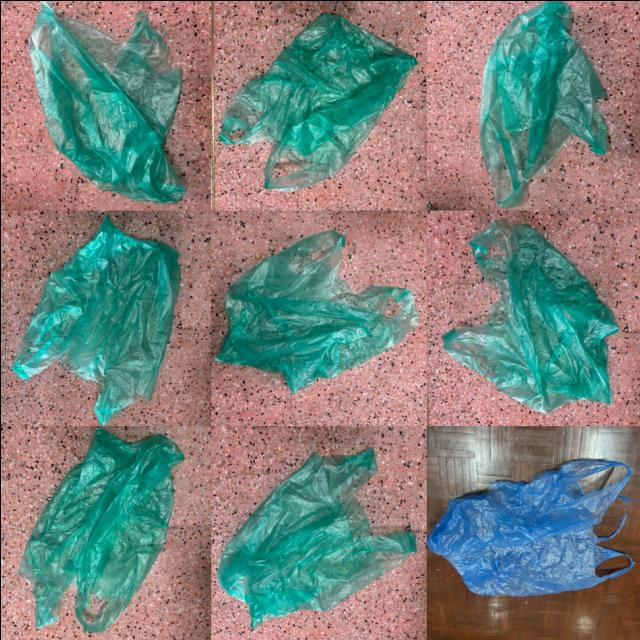plastik: (216, 447, 415, 628), (11, 216, 179, 425), (218, 13, 415, 190), (442, 219, 617, 412), (19, 429, 183, 631), (214, 230, 417, 392), (29, 0, 184, 202), (427, 459, 633, 595), (478, 0, 607, 207)
